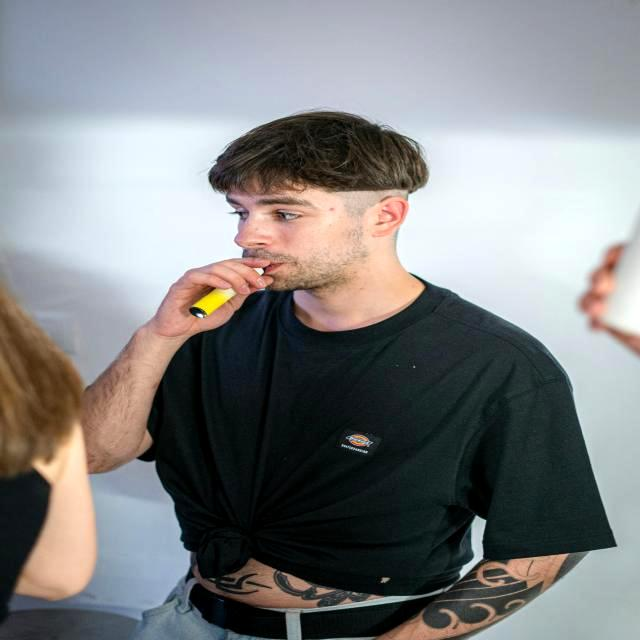no_head_wear: (208, 111, 428, 194)
person: (83, 111, 615, 640)
